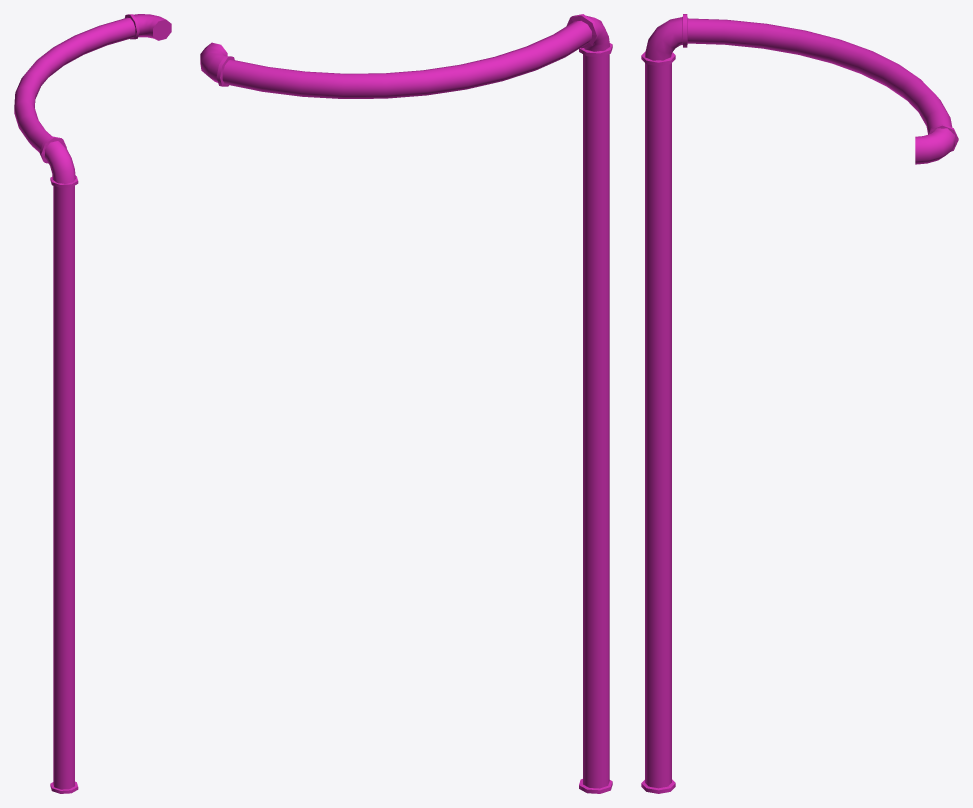
File: Tank_Pipe_03_Lod1.fbx
The picture shows the model from 3 angles, left to right: view 1: azimuth 30°, elevation 25°; view 2: azimuth 150°, elevation 25°; view 3: azimuth 270°, elevation 25°; orthographic projection. The views are drawn at different scales.
Parts seen in each view (by area): view 1: Tank_Pipe_03_Lod1; view 2: Tank_Pipe_03_Lod1; view 3: Tank_Pipe_03_Lod1.
Part boxes in pixels (box(x1,y1,x2,y2)): Tank_Pipe_03_Lod1: box(14, 14, 171, 793); Tank_Pipe_03_Lod1: box(200, 14, 612, 793); Tank_Pipe_03_Lod1: box(641, 14, 958, 793).
Bounding box in the file's own units: 1086 × 2944 × 1094.
